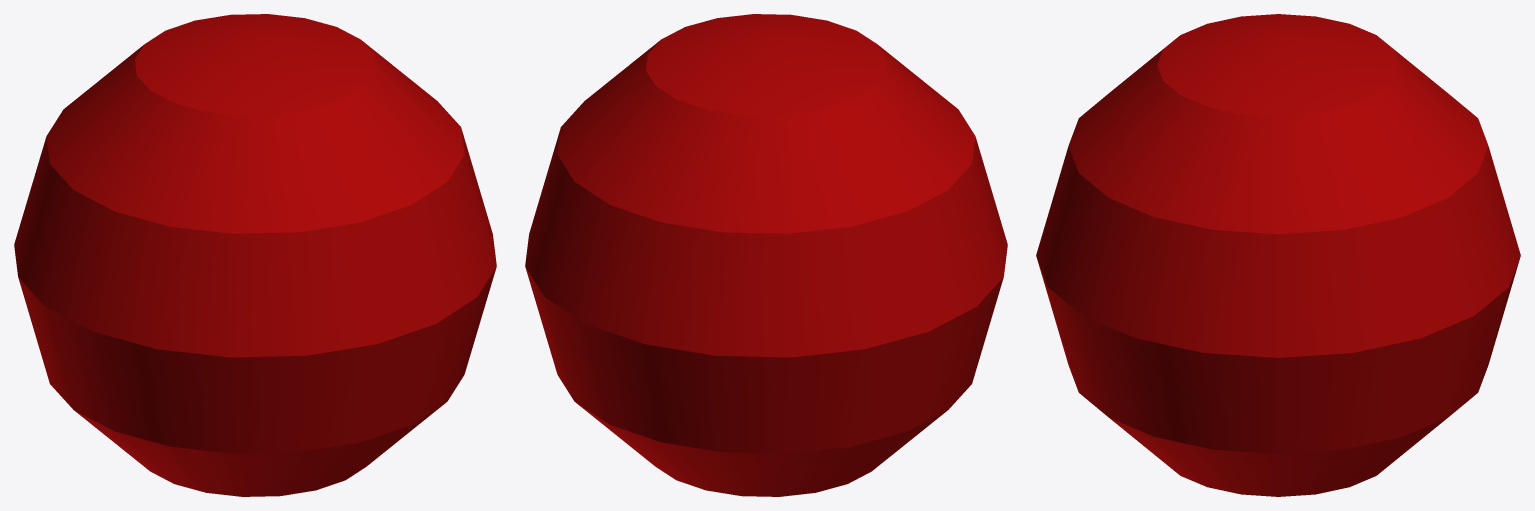
Rendered from BallLam.fbx.
The picture shows the model from 3 angles, left to right: view 1: azimuth 30°, elevation 25°; view 2: azimuth 150°, elevation 25°; view 3: azimuth 270°, elevation 25°; orthographic projection.
Visible parts, largest first — view 1: pSphere1; view 2: pSphere1; view 3: pSphere1.
Boxes of the visible parts, <box> form: pSphere1: <box>14,14,496,496</box>; pSphere1: <box>525,14,1007,496</box>; pSphere1: <box>1036,14,1520,496</box>.
Size of the model in its own units: 2 by 2 by 2.
